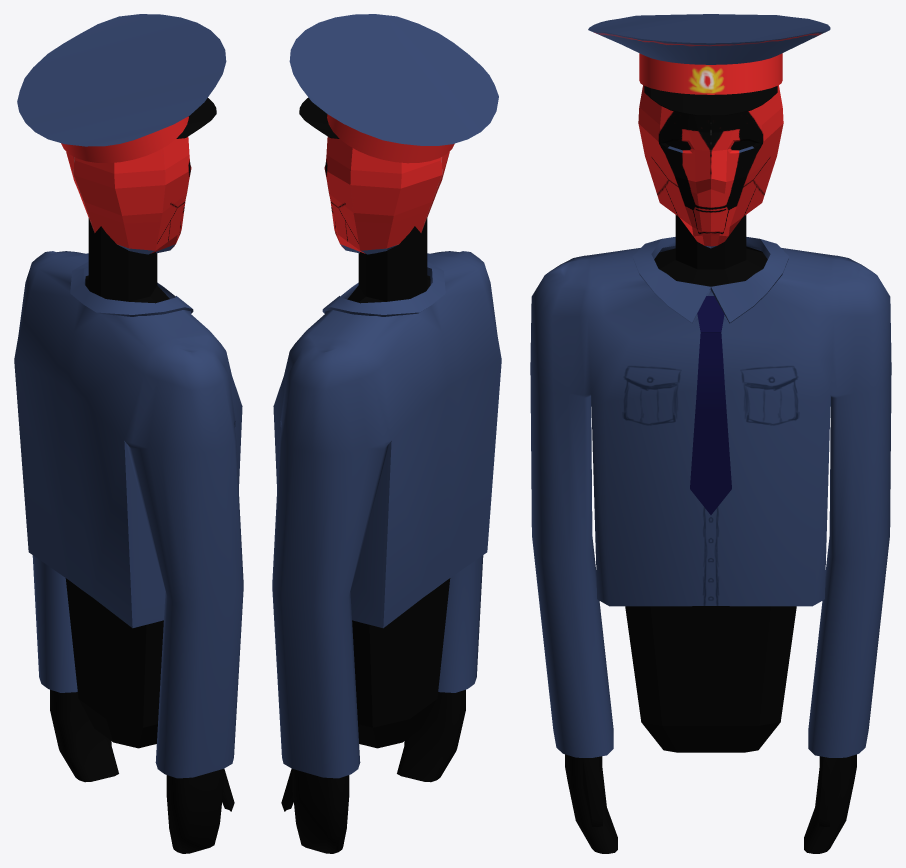
The model's file is Robot Police.fbx.
The picture shows the model from 3 angles, left to right: view 1: azimuth 30°, elevation 25°; view 2: azimuth 150°, elevation 25°; view 3: azimuth 270°, elevation 25°; orthographic projection. The views are drawn at different scales.
Visible parts, largest first — view 1: Cube.006, Cylinder, Cube.007, Head.002, Cube.003, Cylinder.001; view 2: Cube.006, Cylinder, Cube.007, Head.002, Cube.003, Cylinder.001; view 3: Cube.006, Cube.007, Head.002, Cylinder, Cube.003, Plane.001, Cylinder.001.
Boxes of the visible parts, x1,y1,x2,y2 form: Cube.006: (14, 251, 243, 778); Cylinder: (17, 14, 226, 163); Cube.007: (65, 218, 169, 748); Head.002: (66, 137, 191, 254); Cube.003: (50, 689, 234, 853); Cylinder.001: (176, 98, 216, 138); Cube.006: (272, 251, 501, 778); Cylinder: (289, 14, 498, 163); Cube.007: (347, 218, 450, 748); Head.002: (324, 137, 449, 254); Cube.003: (281, 689, 465, 853); Cylinder.001: (299, 97, 339, 138); Cube.006: (530, 237, 891, 757); Cube.007: (625, 215, 796, 752); Head.002: (638, 85, 783, 248); Cylinder: (588, 14, 830, 94); Cube.003: (565, 754, 856, 853); Plane.001: (690, 296, 731, 514); Cylinder.001: (644, 86, 777, 115).
Bounding box in the file's own units: 32.22 × 134 × 52.48.
